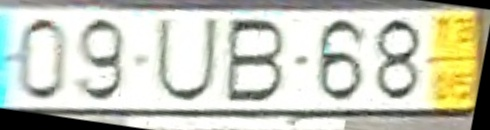0: (14, 15, 69, 101)
6: (316, 17, 365, 102)
8: (372, 16, 421, 101)
9: (73, 16, 127, 101)
B: (225, 17, 286, 104)
U: (154, 15, 218, 102)
